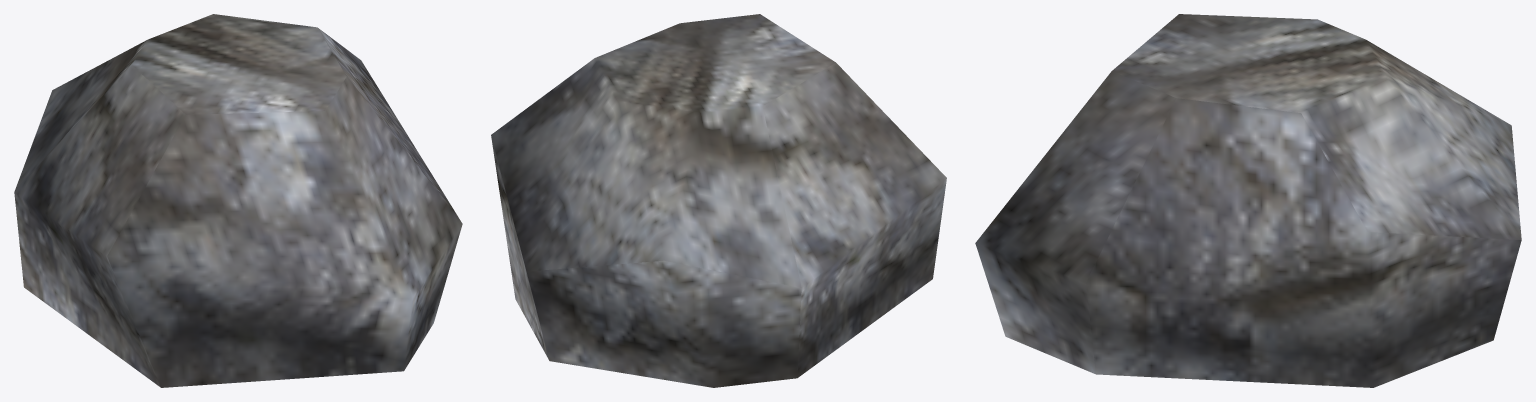
The model's file is Rock_04.fbx.
3 renders of one model, left to right at view 1: azimuth 30°, elevation 25°; view 2: azimuth 150°, elevation 25°; view 3: azimuth 270°, elevation 25°, orthographic. The views are drawn at different scales.
Parts seen in each view (by area): view 1: Rock_04; view 2: Rock_04; view 3: Rock_04.
Part boxes in pixels (bbox=[...]): Rock_04: bbox=[14, 14, 462, 387]; Rock_04: bbox=[491, 14, 946, 387]; Rock_04: bbox=[975, 14, 1521, 387].
Bounding box in the file's own units: 104 × 64.33 × 127.
